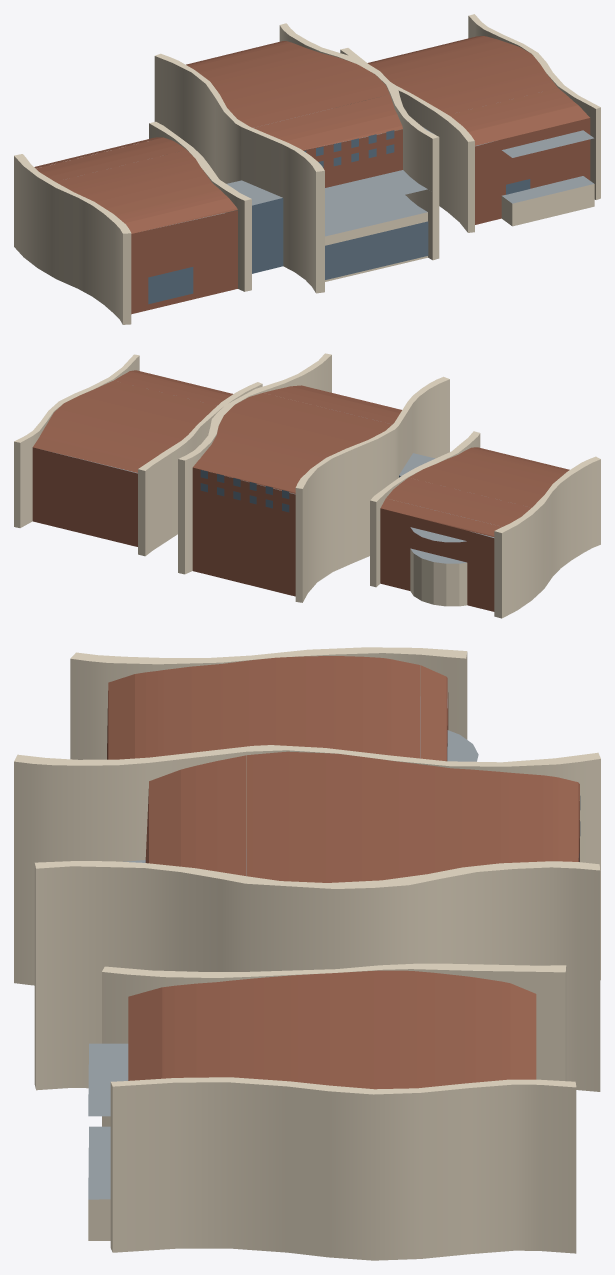
The model's file is cin-freedom-center.glb.
The picture shows the model from 3 angles, top to bottom: view 1: azimuth 30°, elevation 25°; view 2: azimuth 150°, elevation 25°; view 3: azimuth 270°, elevation 25°; orthographic projection. The views are drawn at different scales.
Visible parts, largest first — view 1: National Underground Railroad Freedom Center; view 2: National Underground Railroad Freedom Center; view 3: National Underground Railroad Freedom Center.
Part boxes in pixels (left/top/right/bottom): National Underground Railroad Freedom Center: left=14, top=14, right=600, bottom=324; National Underground Railroad Freedom Center: left=14, top=353, right=600, bottom=618; National Underground Railroad Freedom Center: left=14, top=647, right=600, bottom=1260.
Bounding box in the file's own units: 104 × 24 × 57.63.
